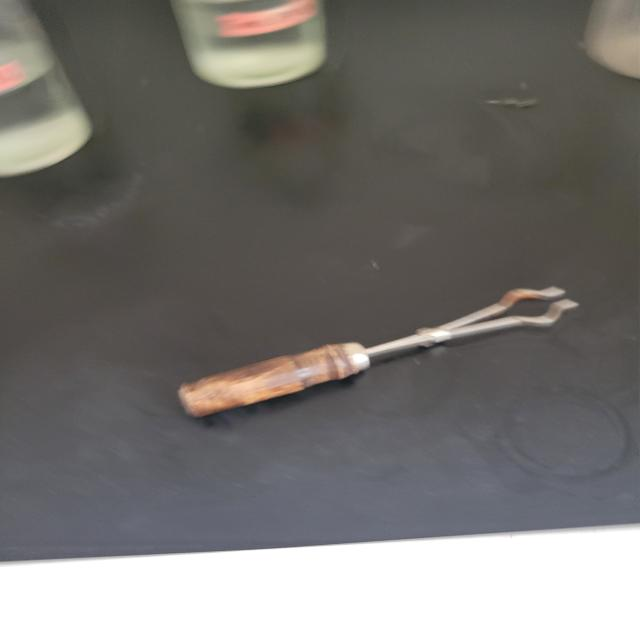TestTube_Holder: (144, 246, 588, 466)
